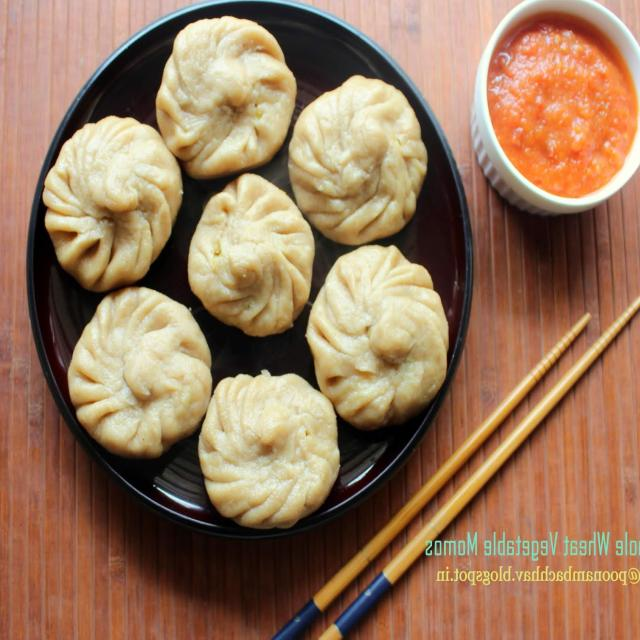momos: (24, 18, 435, 532)
